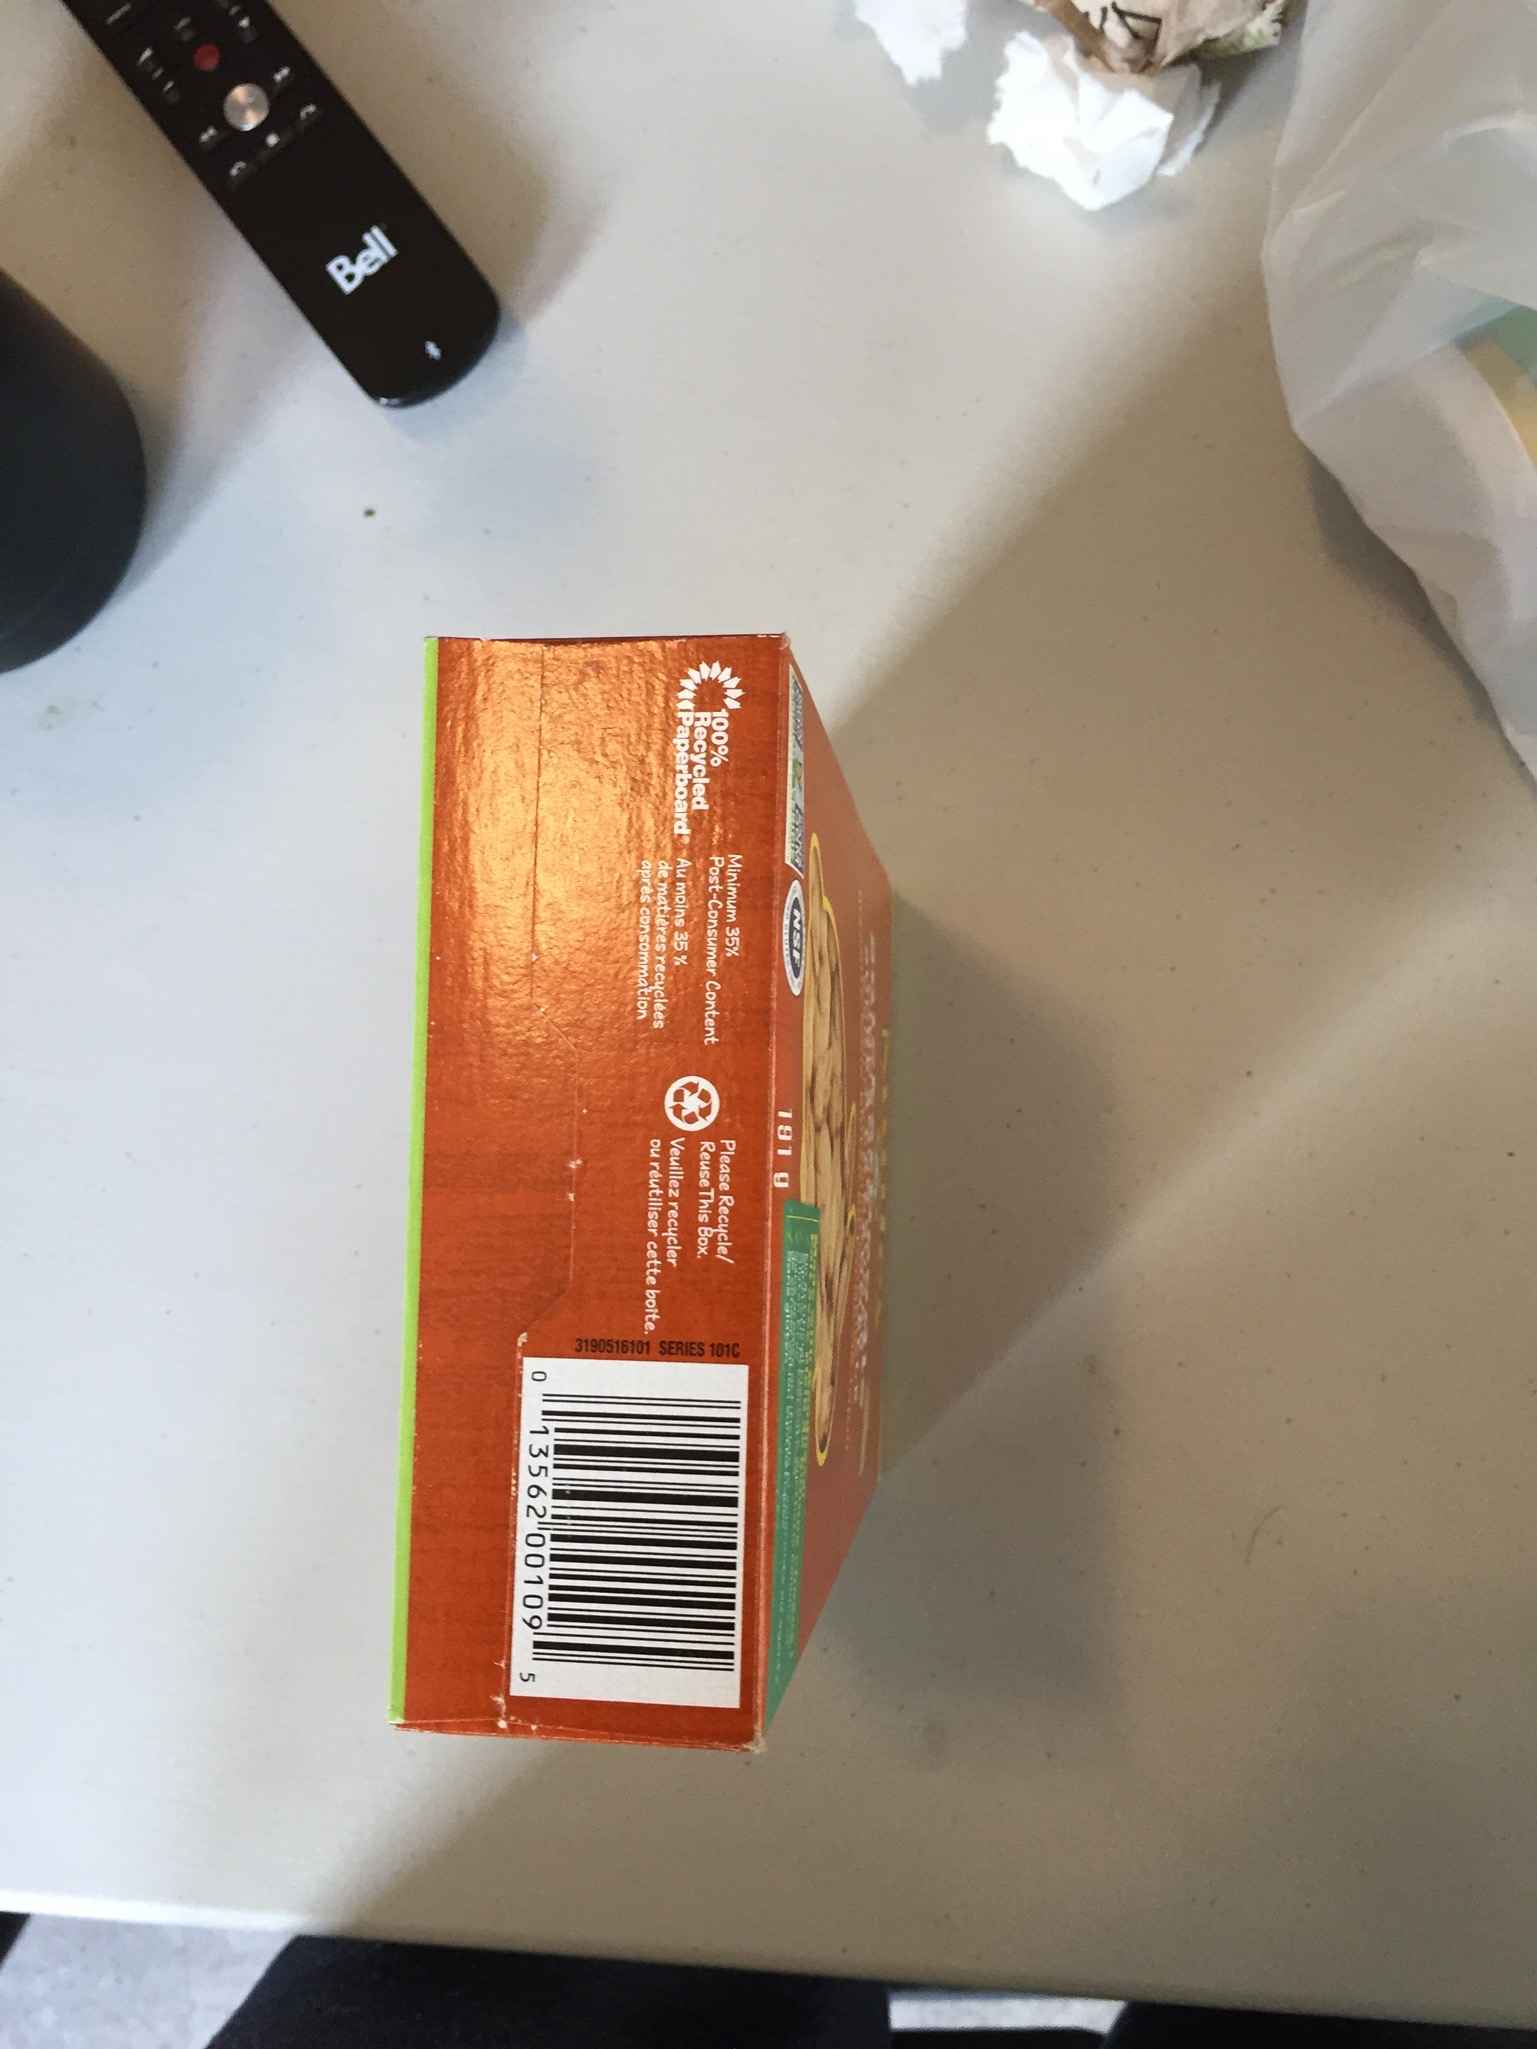annies_snickerdoodle_cinnamon_sugar: (434, 638, 760, 1737)
